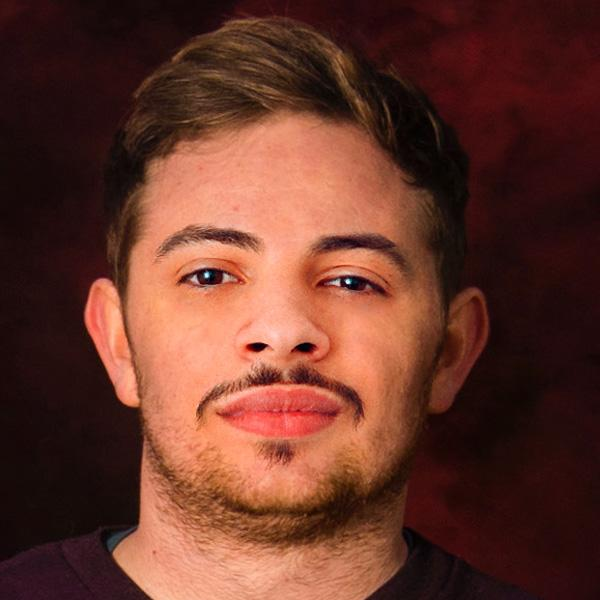Eyes: (166, 248, 254, 305), (306, 255, 394, 312)
